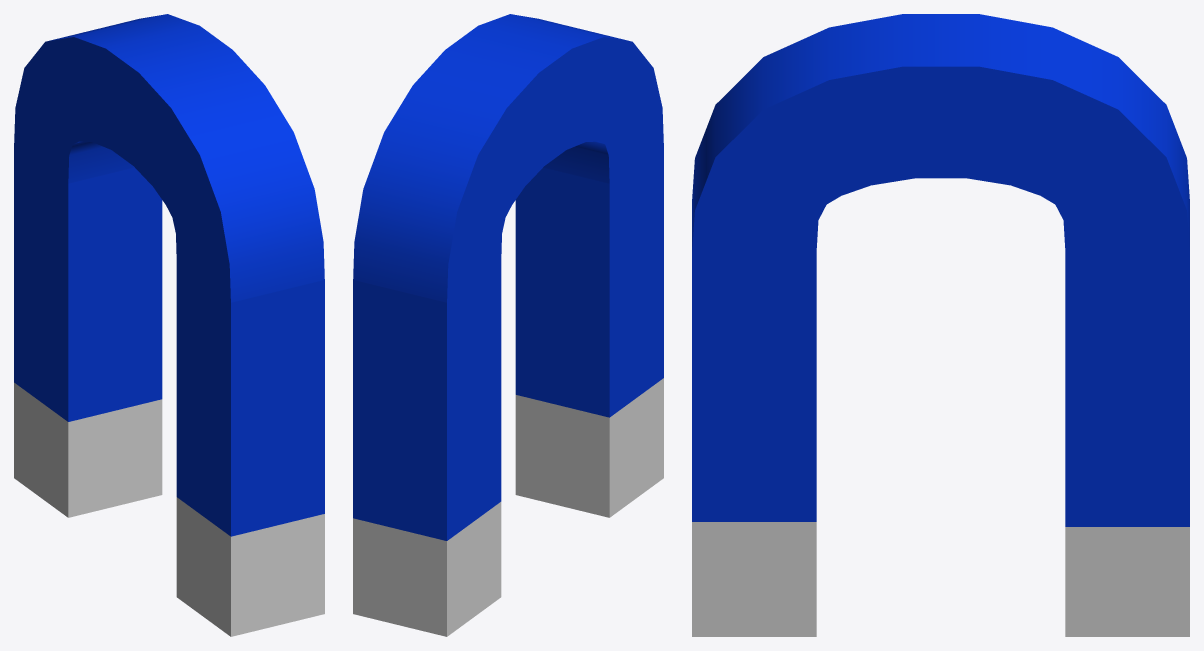
Rendered from magnet_02.fbx.
3 renders of one model, left to right at view 1: azimuth 30°, elevation 25°; view 2: azimuth 150°, elevation 25°; view 3: azimuth 270°, elevation 25°, orthographic. The views are drawn at different scales.
Visible parts, largest first — view 1: pCube3; view 2: pCube3; view 3: pCube3.
Boxes of the visible parts, box(x1,y1,x2,y2) form: pCube3: box(14, 14, 324, 636); pCube3: box(353, 14, 663, 636); pCube3: box(692, 14, 1189, 636).
Bounding box in the file's own units: 5.72 × 28.92 × 22.88.
